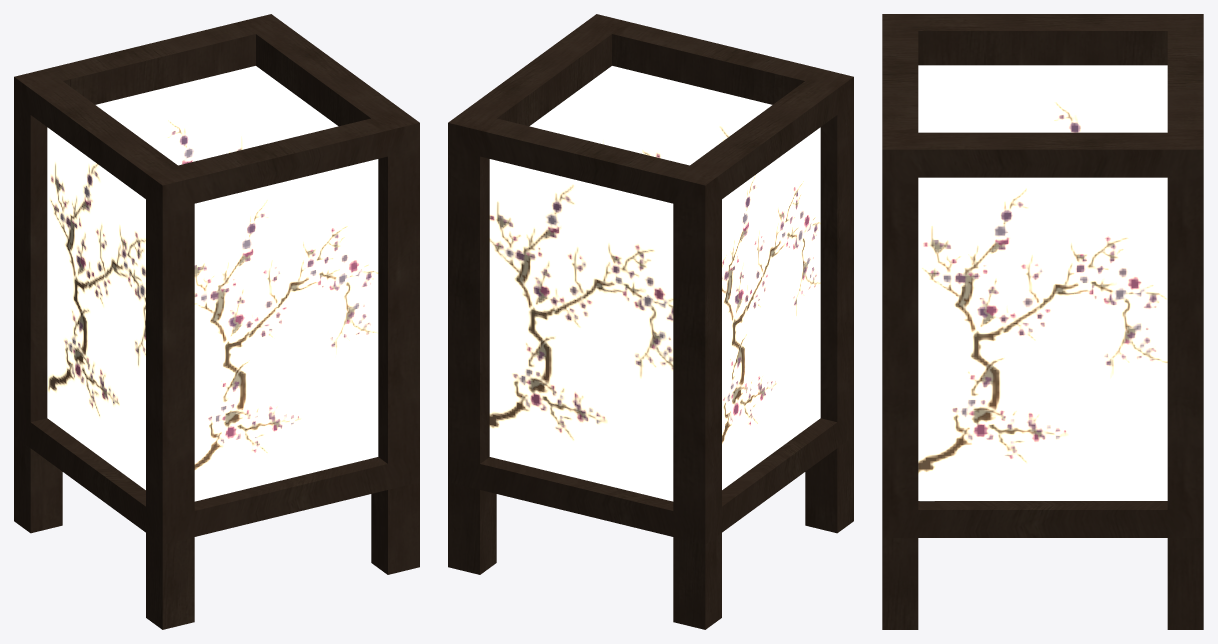
Rendered from little_lantern.glb.
3 views of the same model, side by side, from view 1: azimuth 30°, elevation 25°; view 2: azimuth 150°, elevation 25°; view 3: azimuth 270°, elevation 25° (orthographic). The views are drawn at different scales.
Parts seen in each view (by area): view 1: pCube1; view 2: pCube1; view 3: pCube1.
Boxes of the visible parts, x1,y1,x2,y2 form: pCube1: (14,14,419,629); pCube1: (448,14,853,629); pCube1: (882,14,1203,629).
Size of the model in its own units: 121 by 200 by 121.
Materials: 1 (1 with a texture image).
